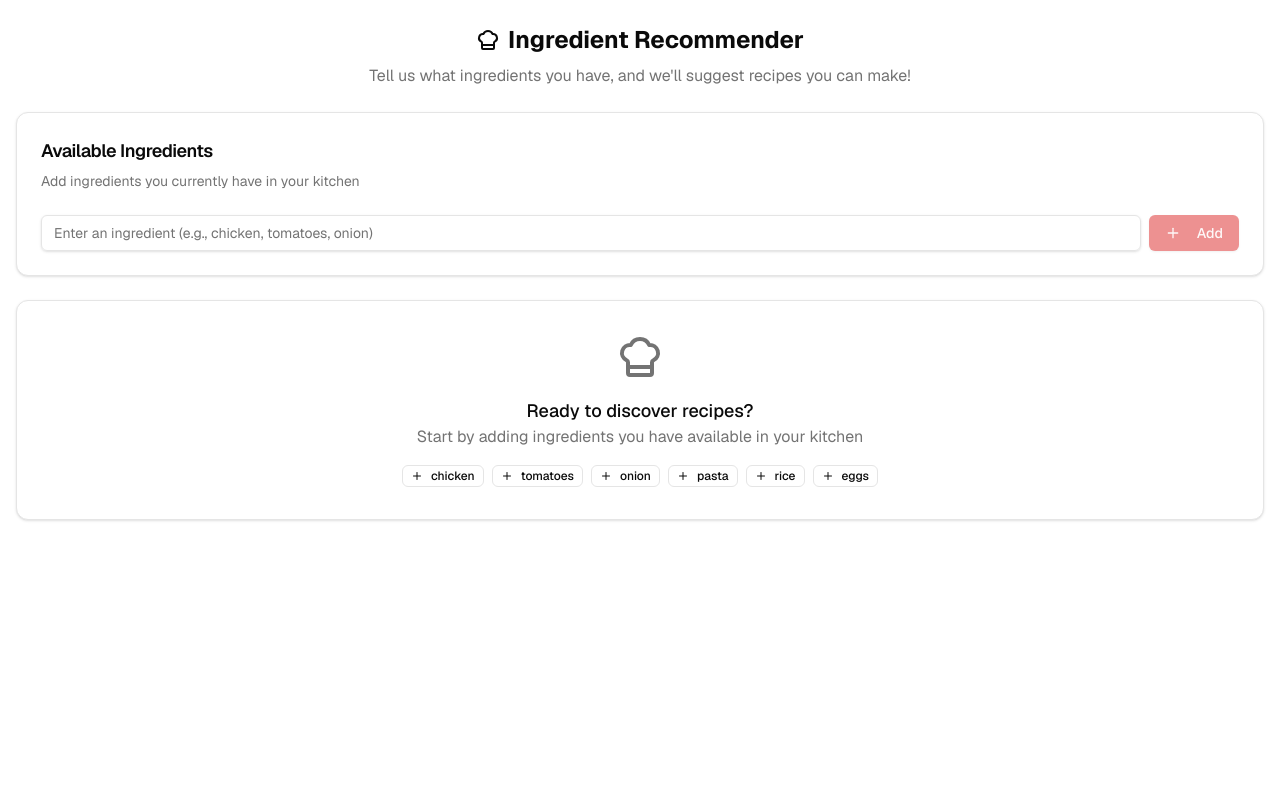
IngredientRecommender › Ingredient Suggestions › should display ingredient suggestions when available
Type "tomato" into the field with placeholder "Enter an ingredient (e.g., chicken, tomatoes, onion)".
click(591, 233); type("tomato")  # box [41,215,1141,251]
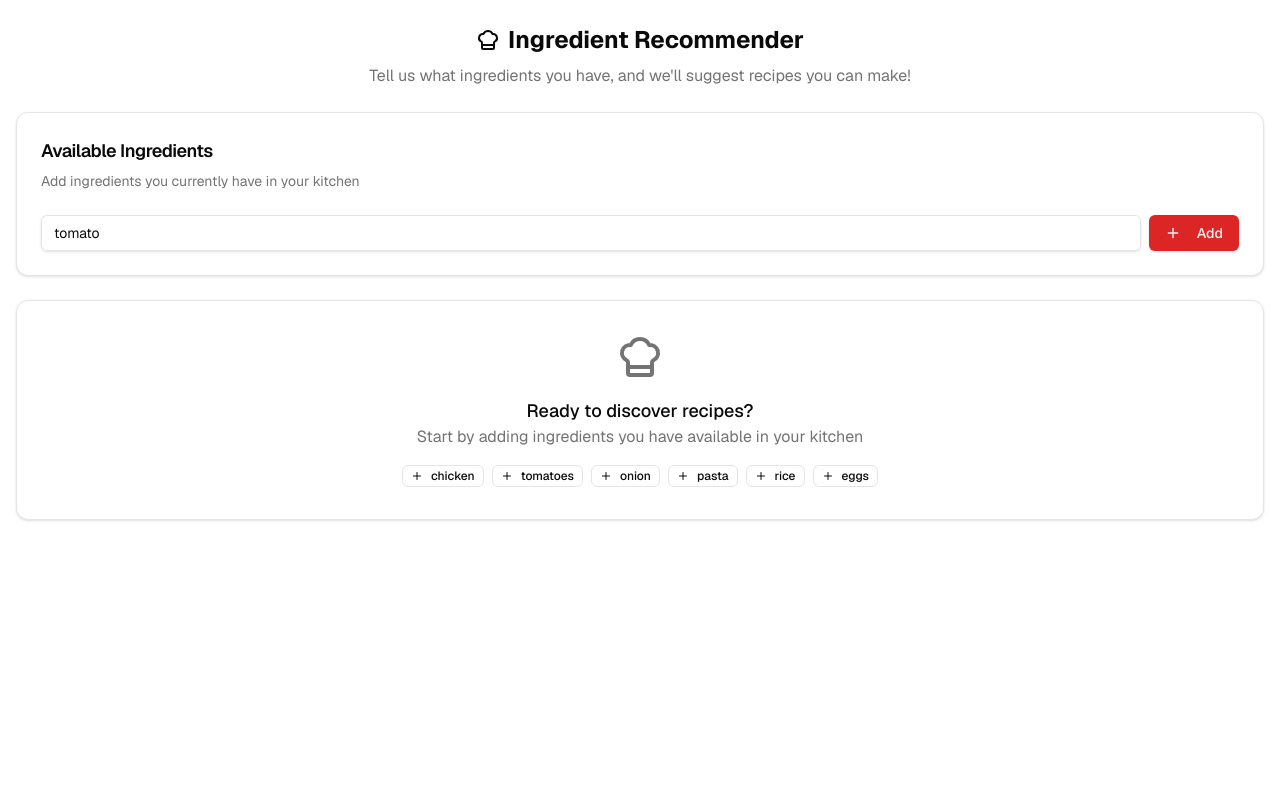
Click the button.
click(1194, 233)  # box [1149,215,1239,251]
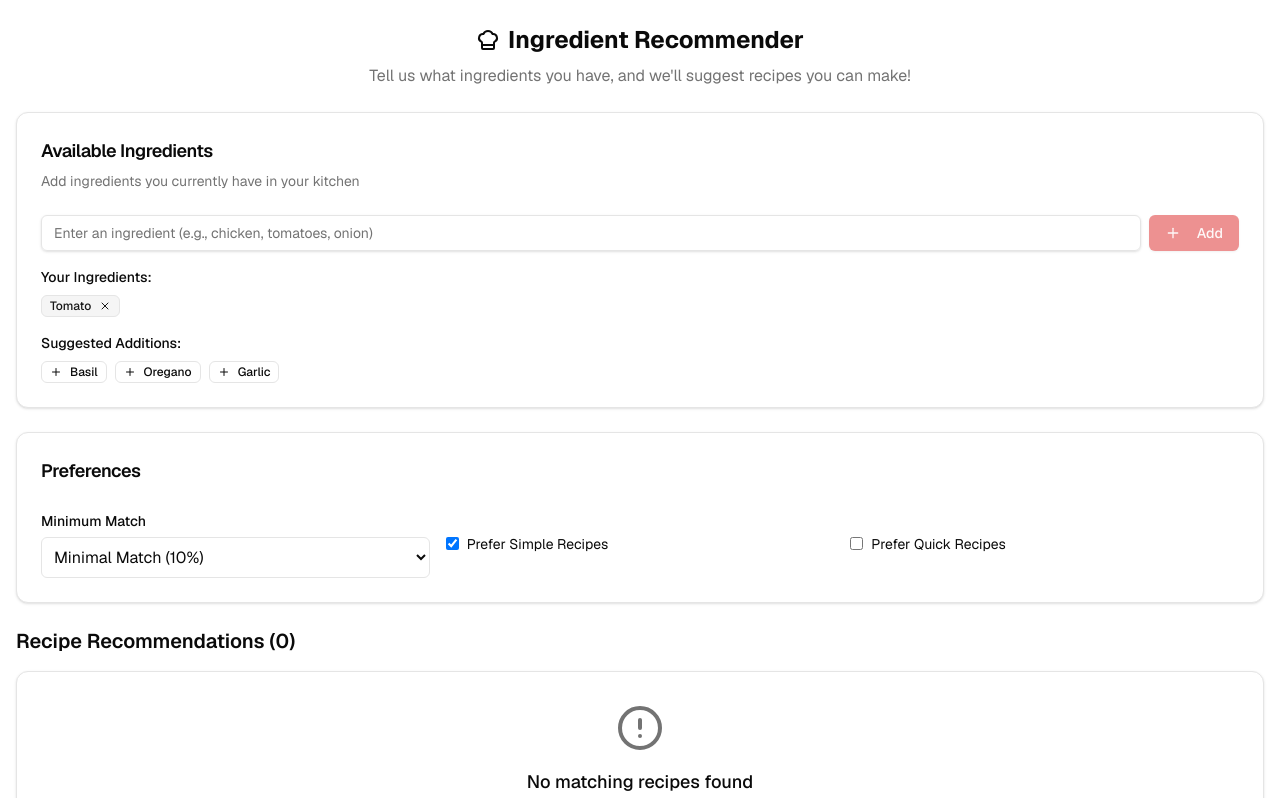
Now the text "Suggested Additions:" is shown, box [41,334,181,352]
Now the text "basil" is shown, box [41,361,106,383]
Now the text "oregano" is shown, box [114,361,201,383]
